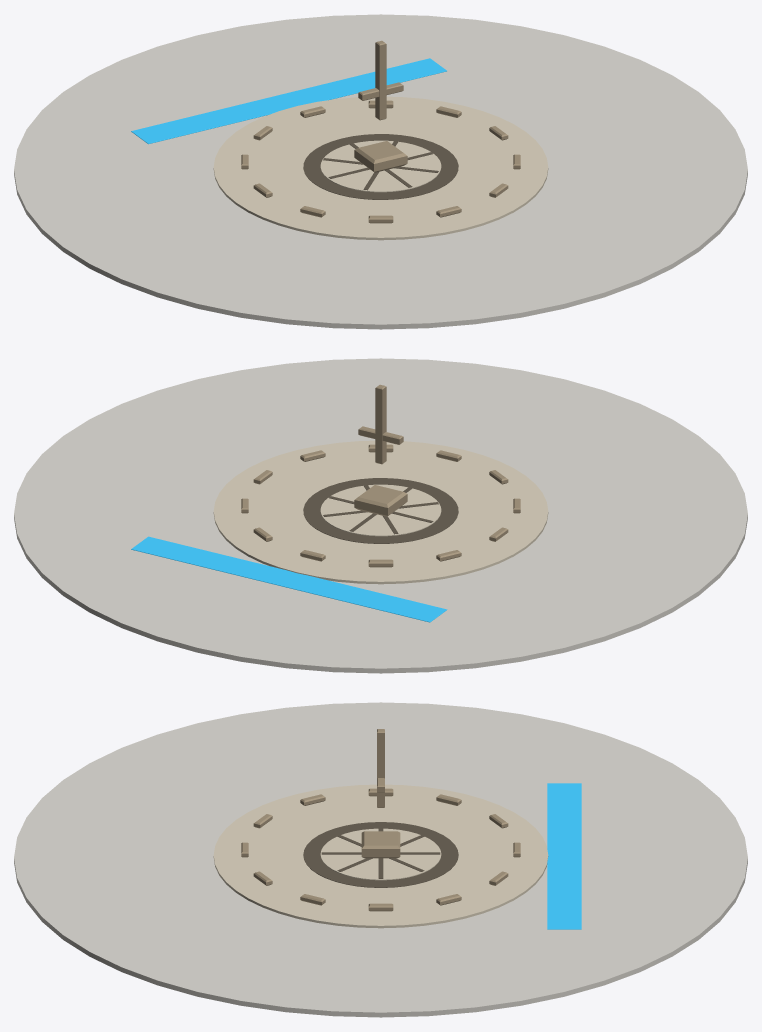
File: marco-zero-barra-do-ceara.glb
The picture shows the model from 3 angles, top to bottom: view 1: azimuth 30°, elevation 25°; view 2: azimuth 150°, elevation 25°; view 3: azimuth 270°, elevation 25°; orthographic projection.
Parts seen in each view (by area): view 1: Base_Pedestal, Praca_Circular, Faixa_Rio_Ceara, Disco_Marco_Zero, Anel_Central, Pedestal_Cruzeiro, Cruzeiro_Haste; view 2: Base_Pedestal, Praca_Circular, Faixa_Rio_Ceara, Disco_Marco_Zero, Anel_Central, Pedestal_Cruzeiro, Cruzeiro_Haste; view 3: Base_Pedestal, Praca_Circular, Faixa_Rio_Ceara, Disco_Marco_Zero, Anel_Central, Pedestal_Cruzeiro.
Part boxes in pixels (x1,y1,x2,y2): Base_Pedestal: (14, 14, 747, 329); Praca_Circular: (213, 96, 548, 240); Faixa_Rio_Ceara: (131, 58, 446, 144); Disco_Marco_Zero: (320, 140, 441, 192); Anel_Central: (303, 134, 458, 199); Pedestal_Cruzeiro: (354, 141, 407, 172); Cruzeiro_Haste: (375, 40, 386, 120); Base_Pedestal: (14, 358, 747, 673); Praca_Circular: (213, 440, 548, 584); Faixa_Rio_Ceara: (131, 536, 447, 622); Disco_Marco_Zero: (320, 484, 441, 536); Anel_Central: (303, 478, 458, 543); Pedestal_Cruzeiro: (354, 485, 407, 516); Cruzeiro_Haste: (375, 384, 386, 464); Base_Pedestal: (14, 702, 747, 1017); Praca_Circular: (213, 784, 548, 928); Faixa_Rio_Ceara: (547, 783, 581, 929); Disco_Marco_Zero: (320, 828, 441, 880); Anel_Central: (303, 822, 458, 887); Pedestal_Cruzeiro: (361, 831, 400, 858).
Bounding box in the file's own units: 68 × 13.5 × 68.
